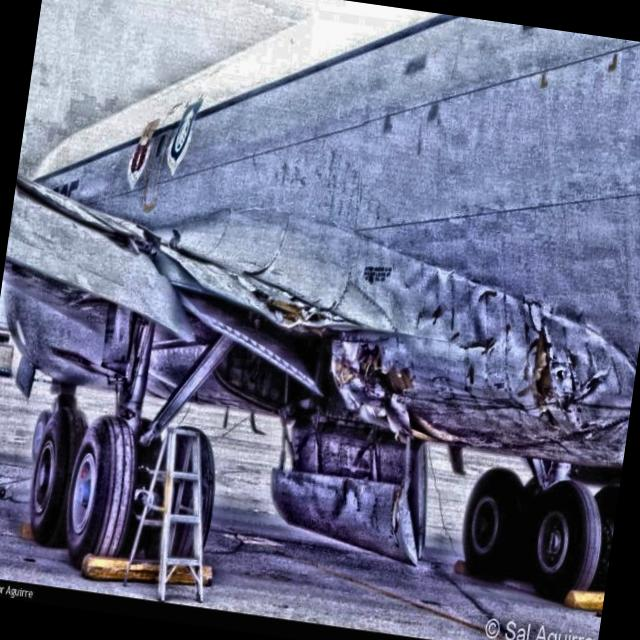crack: (519, 320, 576, 434)
dent: (395, 262, 503, 360)
